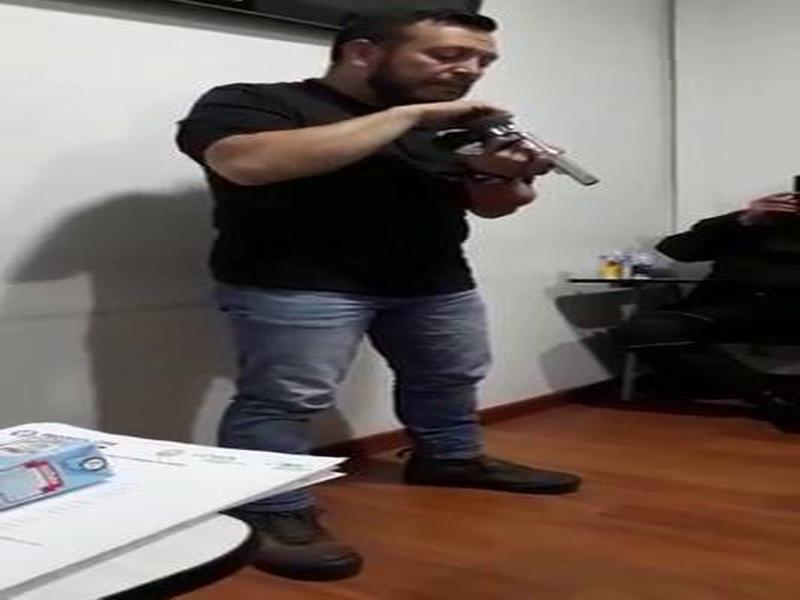Revolver: (457, 109, 623, 212)
